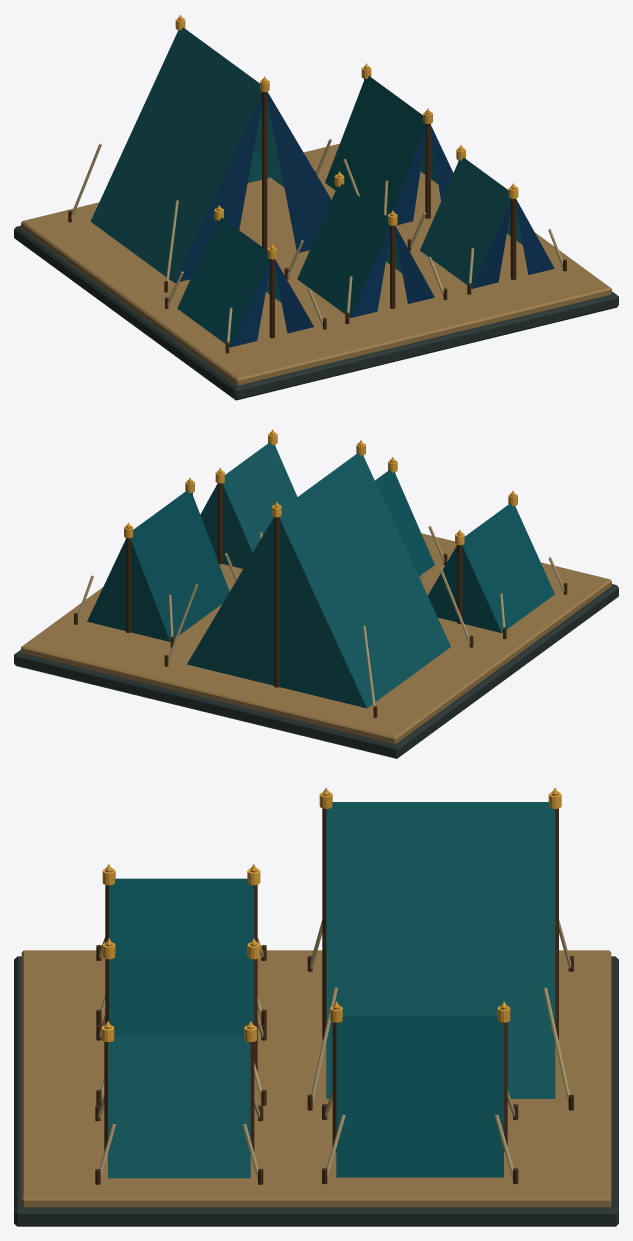
The picture shows the model from 3 angles, top to bottom: view 1: azimuth 30°, elevation 25°; view 2: azimuth 150°, elevation 25°; view 3: azimuth 270°, elevation 25°; orthographic projection. The views are drawn at different scales.
Parts seen in each view (by area): view 1: camp_level5_structure, camp_level5_metal; view 2: camp_level5_structure, camp_level5_metal; view 3: camp_level5_structure, camp_level5_metal.
Boxes of the visible parts, x1=… form: camp_level5_structure: x1=14, y1=17, x2=618, y2=400; camp_level5_metal: x1=175, y1=15, x2=518, y2=259; camp_level5_structure: x1=14, y1=432, x2=618, y2=758; camp_level5_metal: x1=124, y1=429, x2=517, y2=545; camp_level5_structure: x1=14, y1=791, x2=618, y2=1226; camp_level5_metal: x1=101, y1=787, x2=561, y2=1042.
Bounding box in the file's own units: 5.6 × 2.87 × 5.6.
